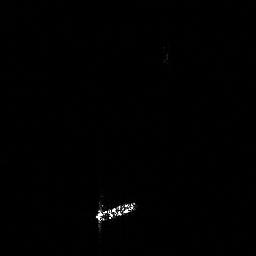ship: (91, 201, 137, 224)
